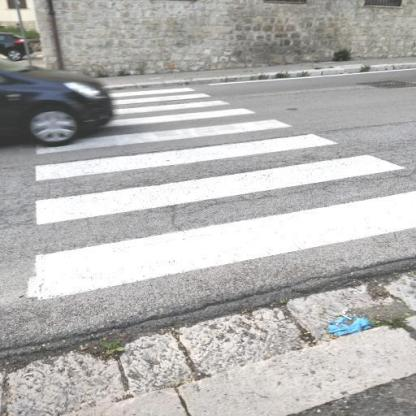crosswalk: (18, 130, 416, 231)
